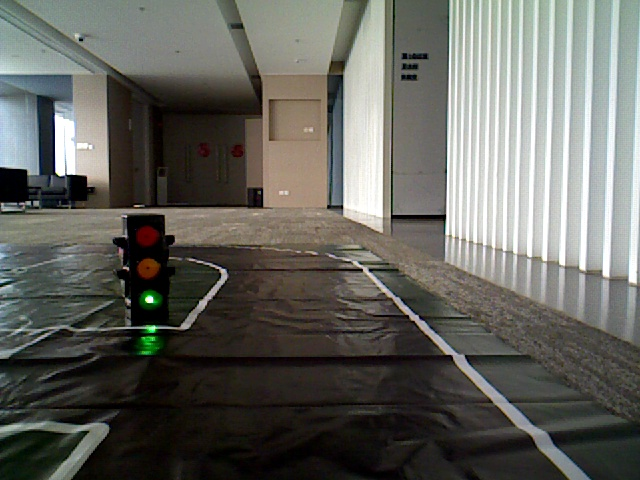green: (130, 216, 163, 312)
